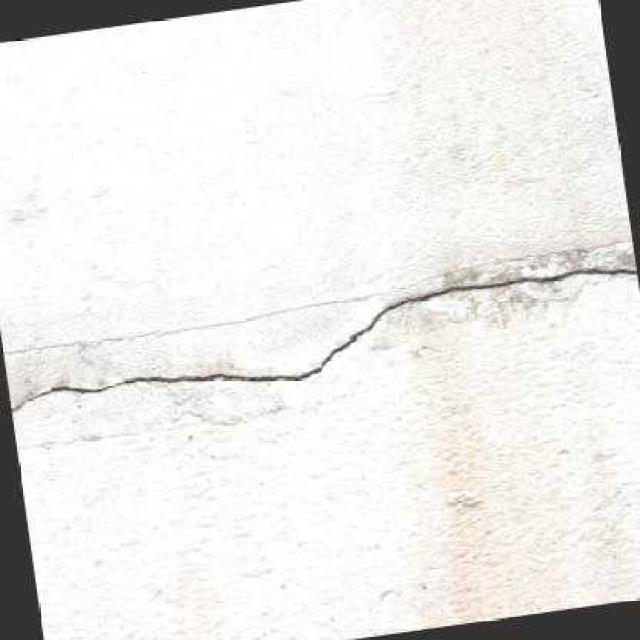D00: (12, 267, 637, 411)
